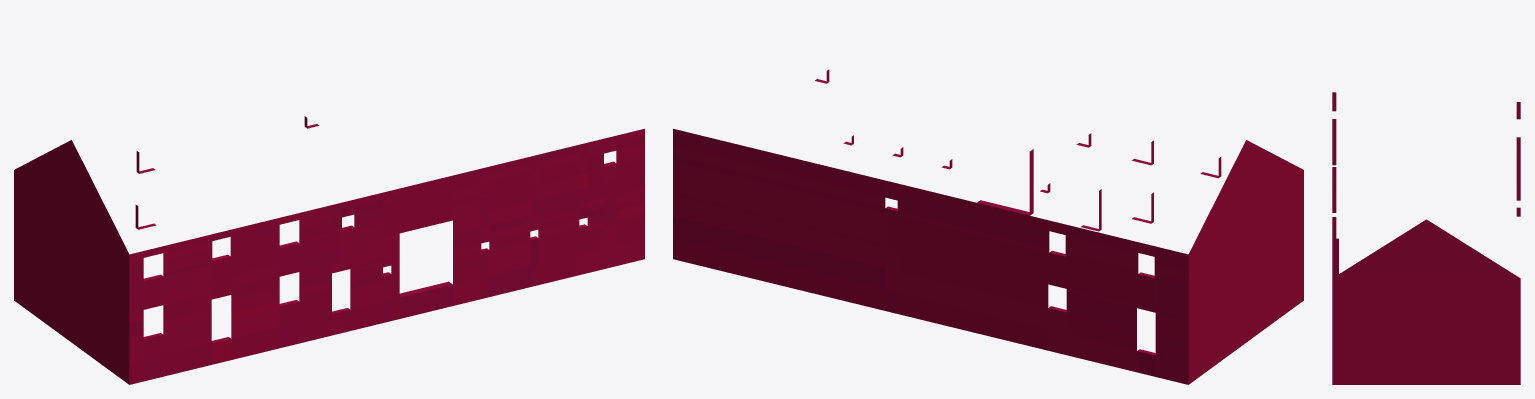
Rendered from SM_Bld_198_Masonry.glb.
The picture shows the model from 3 angles, left to right: view 1: azimuth 30°, elevation 25°; view 2: azimuth 150°, elevation 25°; view 3: azimuth 270°, elevation 25°; orthographic projection. The views are drawn at different scales.
Parts seen in each view (by area): view 1: SM_Bld_198_Masonry; view 2: SM_Bld_198_Masonry; view 3: SM_Bld_198_Masonry.
Boxes of the visible parts, left/top/right/bottom form: SM_Bld_198_Masonry: left=14, top=116, right=644, bottom=384; SM_Bld_198_Masonry: left=673, top=69, right=1303, bottom=384; SM_Bld_198_Masonry: left=1332, top=92, right=1520, bottom=384.
Size of the model in its own units: 25.21 by 9.48 by 9.78.
